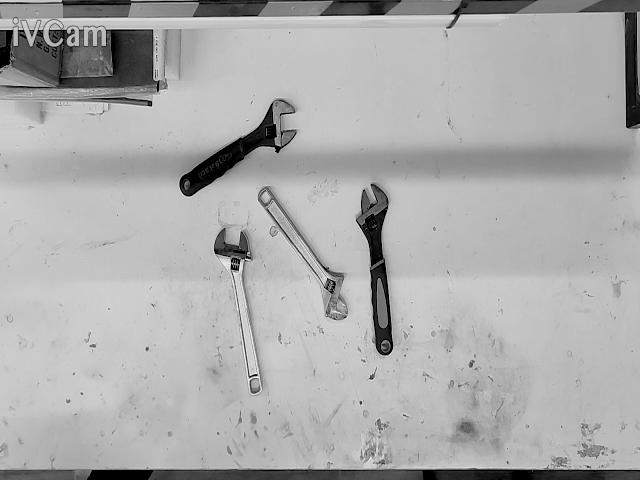Adjustable spanner: (258, 187, 348, 321), (180, 100, 295, 197), (214, 228, 262, 395), (356, 183, 394, 355)
